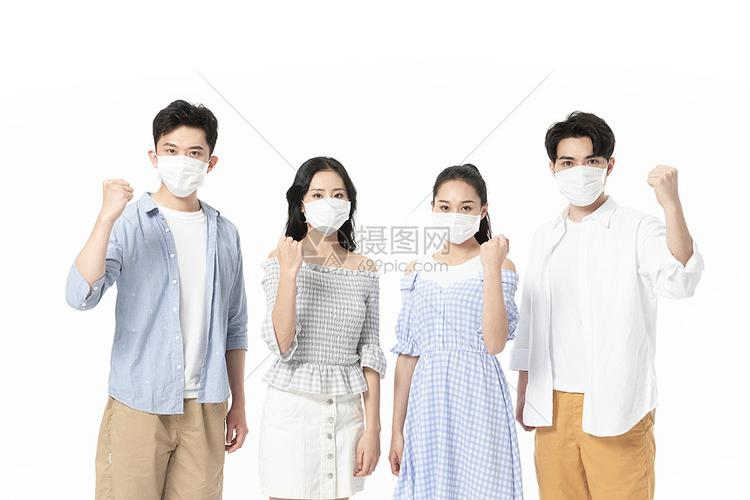mask: (148, 113, 216, 198), (550, 129, 615, 210), (427, 175, 491, 244), (300, 164, 353, 234)
